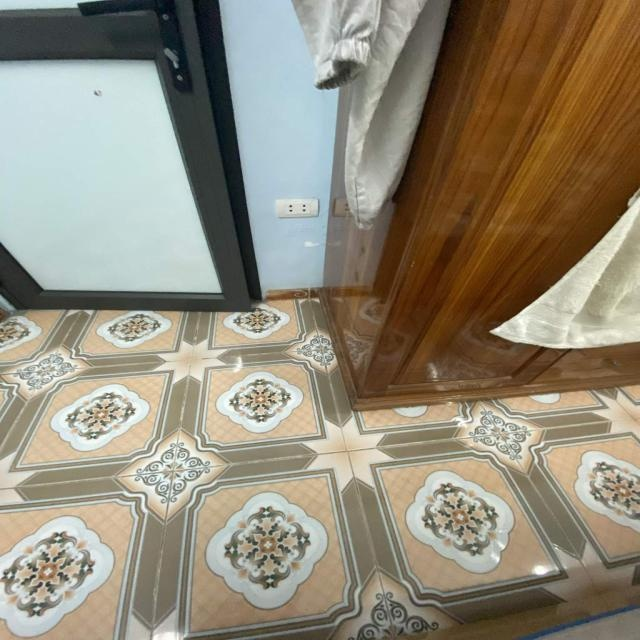outlet: (275, 198, 319, 218)
